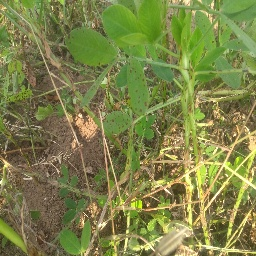GroundNut_Leaf: (65, 29, 119, 67), (126, 52, 151, 116), (138, 1, 162, 46), (1, 220, 30, 253), (101, 4, 137, 28), (215, 58, 240, 90), (173, 13, 189, 52), (225, 1, 256, 21), (153, 56, 174, 83), (58, 230, 79, 256), (105, 110, 124, 138), (192, 24, 203, 69), (35, 104, 54, 123), (1, 26, 10, 55), (82, 219, 89, 255), (13, 91, 31, 103), (59, 167, 70, 182)
